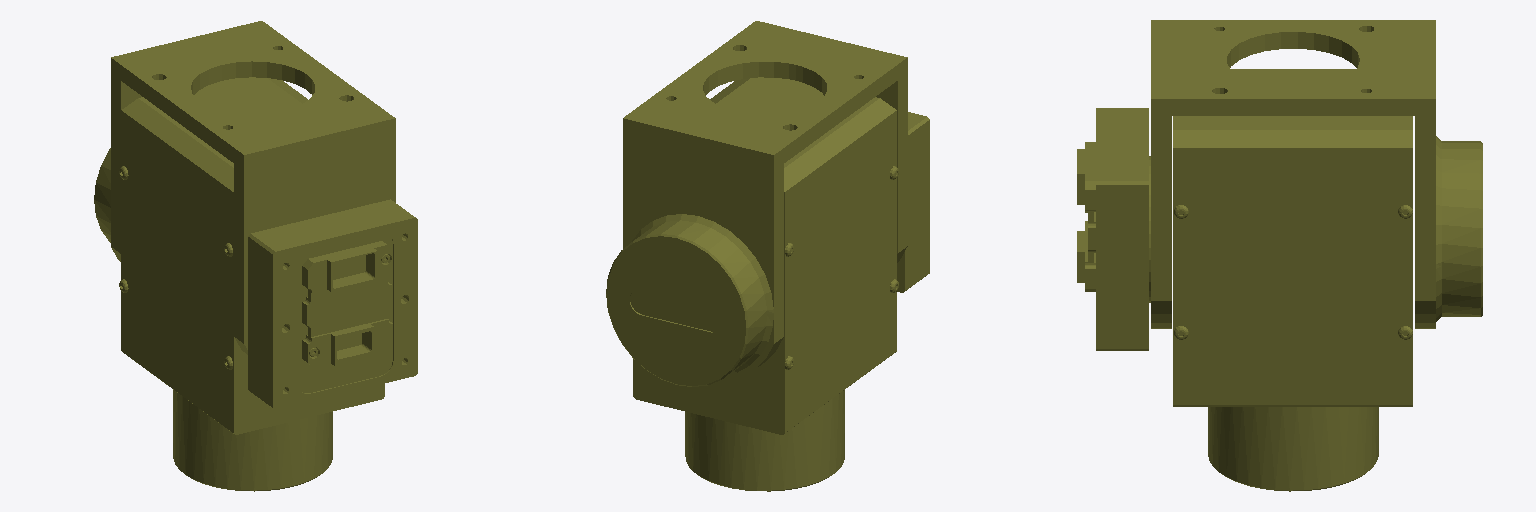
URDF robot description (pw070_v6):
<robot
  name="pw070_v6">
  <link
    name="pw070_base_link">
    <inertial>
      <origin
        xyz="1.00847964366636E-18 9.83435359832521E-19 0.0183994788995853"
        rpy="0 0 0" />
      <mass
        value="0.115600516395015" />
      <inertia
        ixx="4.22762247390204E-05"
        ixy="-1.61518323710916E-21"
        ixz="1.64564610608109E-21"
        iyy="4.22005265483119E-05"
        iyz="-1.05221078652886E-21"
        izz="5.93634422539094E-05" />
    </inertial>
    <visual>
      <origin
        xyz="0 0 0"
        rpy="0 0 0" />
      <geometry>
        <mesh
          filename="package://iai_schunk_pw070_v6//meshes/pw070_base_link.STL" />
      </geometry>
      <material
        name="">
        <color
          rgba="0.501960784313725 0.501960784313725 0.250980392156863 1" />
      </material>
    </visual>
    <collision>
      <origin
        xyz="0 0 0"
        rpy="0 0 0" />
      <geometry>
        <mesh
          filename="package://iai_schunk_pw070_v6//meshes/pw070_base_link.STL" />
      </geometry>
    </collision>
  </link>
  <link
    name="pw070_box">
    <inertial>
      <origin
        xyz="0.00797025295401261 9.94149680106761E-19 0.00180349929967392"
        rpy="0 0 0" />
      <mass
        value="0.795464859270861" />
      <inertia
        ixx="0.00106829634194245"
        ixy="8.63510385056357E-20"
        ixz="-1.28767421479418E-05"
        iyy="0.00158199067955857"
        iyz="-1.66255748362911E-08"
        izz="0.00115077124113952" />
    </inertial>
    <visual>
      <origin
        xyz="0 0 0"
        rpy="0 0 0" />
      <geometry>
        <mesh
          filename="package://iai_schunk_pw070_v6//meshes/pw070_box.STL" />
      </geometry>
      <material
        name="">
        <color
          rgba="0.501960784313725 0.501960784313725 0.250980392156863 1" />
      </material>
    </visual>
    <collision>
      <origin
        xyz="0 0 0"
        rpy="0 0 0" />
      <geometry>
        <mesh
          filename="package://iai_schunk_pw070_v6//meshes/pw070_box.STL" />
      </geometry>
    </collision>
  </link>
  <joint
    name="head_pan_joint"
    type="revolute">
    <origin
      xyz="0 0 0.0938"
      rpy="3.1416 0 -1.5708" />
    <parent
      link="pw070_base_link" />
    <child
      link="pw070_box" />
    <axis
      xyz="0 0 1" />
    <calibration rising="0.0365482345223"/>
    <limit
      lower="-1.57"
      upper="1.57"
      effort="0"
      velocity="0.75" />
  </joint>

  <transmission
    name="head_pan_transmission"
    type="pr2_mechanism_model/SimpleTransmission">
    <actuator name="head_pan_motor"/>
    <joint name="head_pan_joint"/>
    <mechanicalReduction>1.0</mechanicalReduction>
  </transmission>

  <link
    name="pw070_plate">
    <inertial>
      <origin
        xyz="-0.0183186378092207 -8.79591761068821E-18 -0.0206679097089721"
        rpy="0 0 0" />
      <mass
        value="0.20324493262428" />
      <inertia
        ixx="0.00027991057755713"
        ixy="4.77643348599192E-08"
        ixz="-7.69501477424774E-05"
        iyy="0.000674719224958911"
        iyz="2.09169636982284E-20"
        izz="0.000546047259750224" />
    </inertial>
    <visual>
      <origin
        xyz="0 0 0"
        rpy="0 0 0" />
      <geometry>
        <mesh
          filename="package://iai_schunk_pw070_v6//meshes/pw070_plate.STL" />
      </geometry>
      <material
        name="">
        <color
          rgba="0.501960784313725 0.501960784313725 0.250980392156863 1" />
      </material>
    </visual>
    <collision>
      <origin
        xyz="0 0 0"
        rpy="0 0 0" />
      <geometry>
        <mesh
          filename="package://iai_schunk_pw070_v6//meshes/pw070_plate.STL" />
      </geometry>
    </collision>
  </link>
  <joint
    name="head_tilt_joint"
    type="revolute">
    <origin
      xyz="0 0 0"
      rpy="0 0 0" />
    <parent
      link="pw070_box" />
    <child
      link="pw070_plate" />
    <axis
      xyz="1 0 0" />
    <calibration rising="0.0374135151505"/>
    <limit
      lower="-1.3"
      upper="1.3"
      effort="0"
      velocity="0.8" />
  </joint>

  <transmission
    name="head_tilt_transmission"
    type="pr2_mechanism_model/SimpleTransmission">
    <actuator name="head_tilt_motor"/>
    <joint name="head_tilt_joint"/>
    <mechanicalReduction>1.0</mechanicalReduction>
  </transmission>

  <link
    name="pw070_frame_out" />
  <joint
    name="trans_frame_out"
    type="fixed">
    <origin
      xyz="0 0 -0.07"
      rpy="3.1416 0 -1.5708" />
    <parent
      link="pw070_plate" />
    <child
      link="pw070_frame_out" />
    <axis
      xyz="0 0 0" />
  </joint>
</robot>

--- Render facts (derived) ---
Views: 3 orthographic renders of the robot side by side, from view 1: azimuth 30°, elevation 25°; view 2: azimuth 150°, elevation 25°; view 3: azimuth 270°, elevation 25°.
Robot: pw070_v6 — 4 links, 3 joints (2 revolute, 1 fixed); root link pw070_base_link; default pose: all joints at 0.
Links seen in each view (by area): view 1: pw070_box, pw070_plate, pw070_base_link; view 2: pw070_plate, pw070_box, pw070_base_link; view 3: pw070_box, pw070_plate, pw070_base_link.
Boxes of the visible links, x1,y1,x2,y2 form: pw070_box: (119, 77, 417, 434); pw070_plate: (94, 21, 395, 356); pw070_base_link: (173, 390, 332, 491); pw070_plate: (606, 21, 907, 386); pw070_box: (633, 77, 929, 434); pw070_base_link: (685, 390, 844, 491); pw070_box: (1077, 69, 1412, 406); pw070_plate: (1151, 20, 1482, 328); pw070_base_link: (1208, 407, 1378, 491).
Size in the robot's own frame: 0.0733 by 0.152 by 0.1638 metres.
3 mesh visuals loaded from 3 distinct referenced files (3 binary STL).